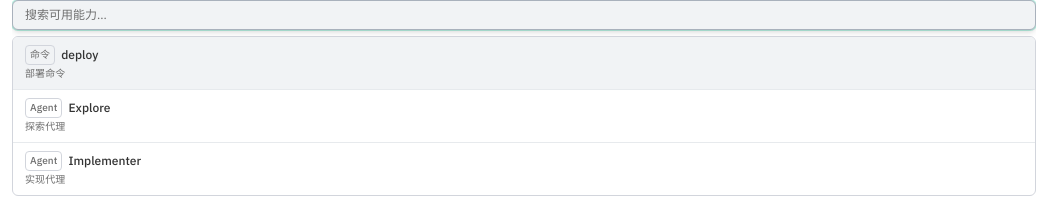
CapabilityPicker 键盘导航 › 搜索过滤后 Enter 选中匹配结果；Escape 清空搜索恢复全列表
Check: the text "Implementer" is shown, box [68, 153, 141, 169]
Type "tdd" into the field with placeholder "搜索可用能力..." at (524, 15), box [25, 7, 1023, 23]
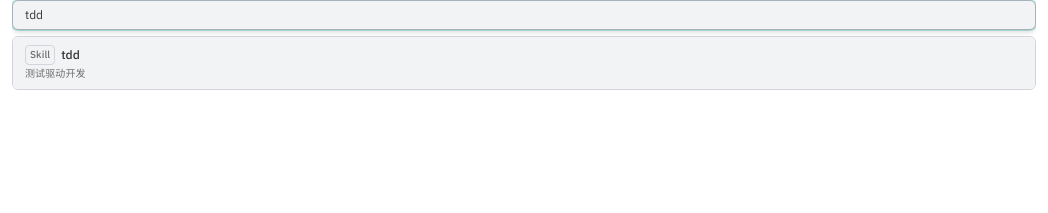
Check: the text "tdd" is shown, box [61, 47, 80, 63]
Press Enter in the field with placeholder "搜索可用能力...", box [25, 7, 1023, 23]
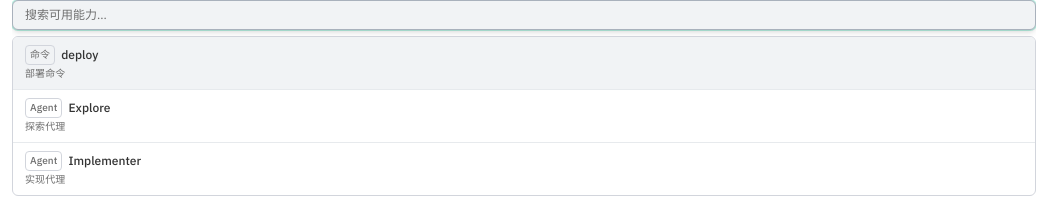
Type "tdd" into the field with placeholder "搜索可用能力..." at (524, 15), box [25, 7, 1023, 23]
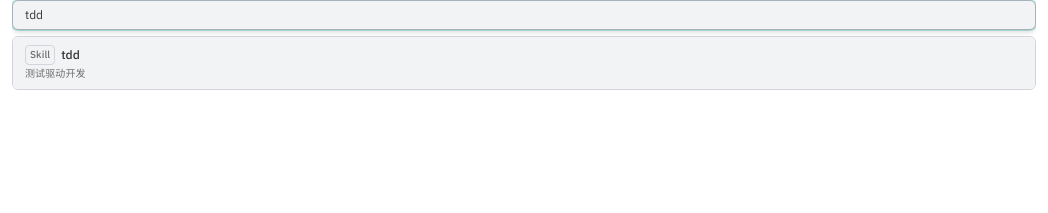
Press Escape in the field with placeholder "搜索可用能力...", box [25, 7, 1023, 23]
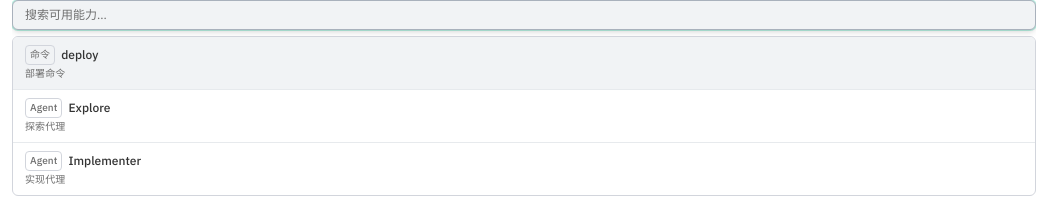
Check: the field with placeholder "搜索可用能力..." is empty, box [25, 7, 1023, 23]
Check: the text "Implementer" is shown, box [68, 153, 141, 169]
